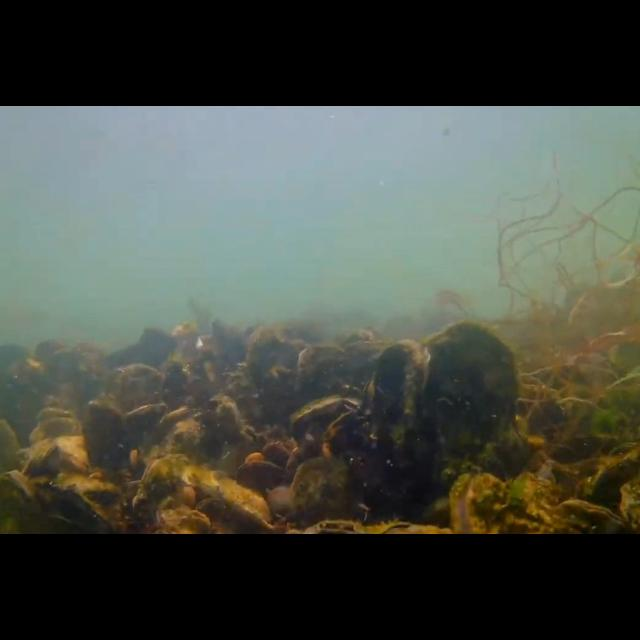Oyster-Closed: (133, 456, 193, 534), (22, 444, 62, 484)
Oyster-Indeterminate: (425, 322, 519, 452), (368, 339, 432, 446), (291, 457, 357, 535), (84, 400, 132, 472), (217, 478, 271, 526), (204, 395, 243, 461)
Oyster-Open: (289, 396, 365, 462), (156, 406, 206, 450), (34, 407, 82, 435)
